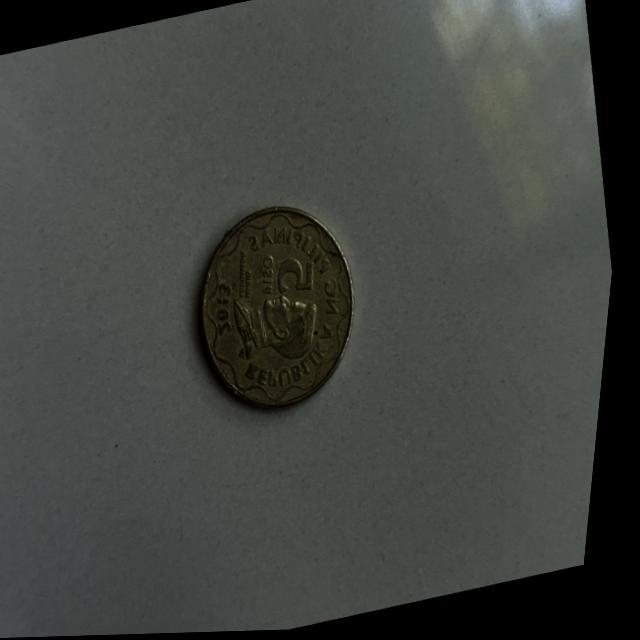5_Old_Front: (171, 186, 388, 431)
